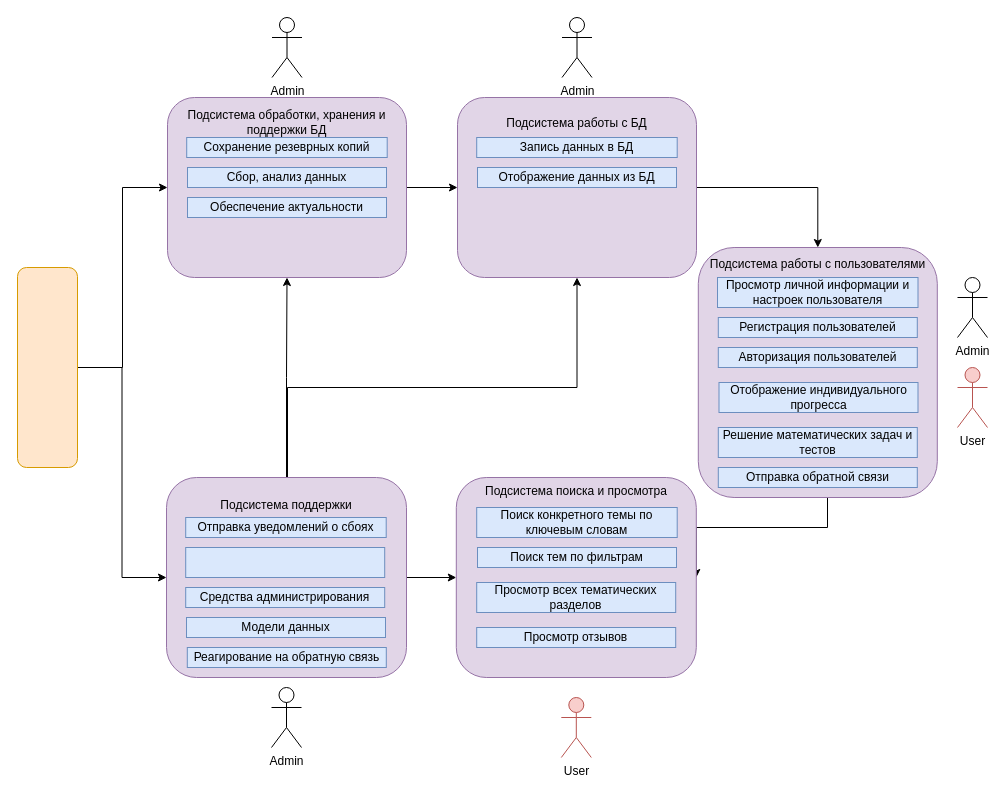
This 1007x796 diagram has some shape labels left out. Here are the shapes that lost their labels. From the top down, the centre of each, then its label:
pixel 47 367: Внешние системы
pixel 285 562: Оправка уведомлений об обновлениях
